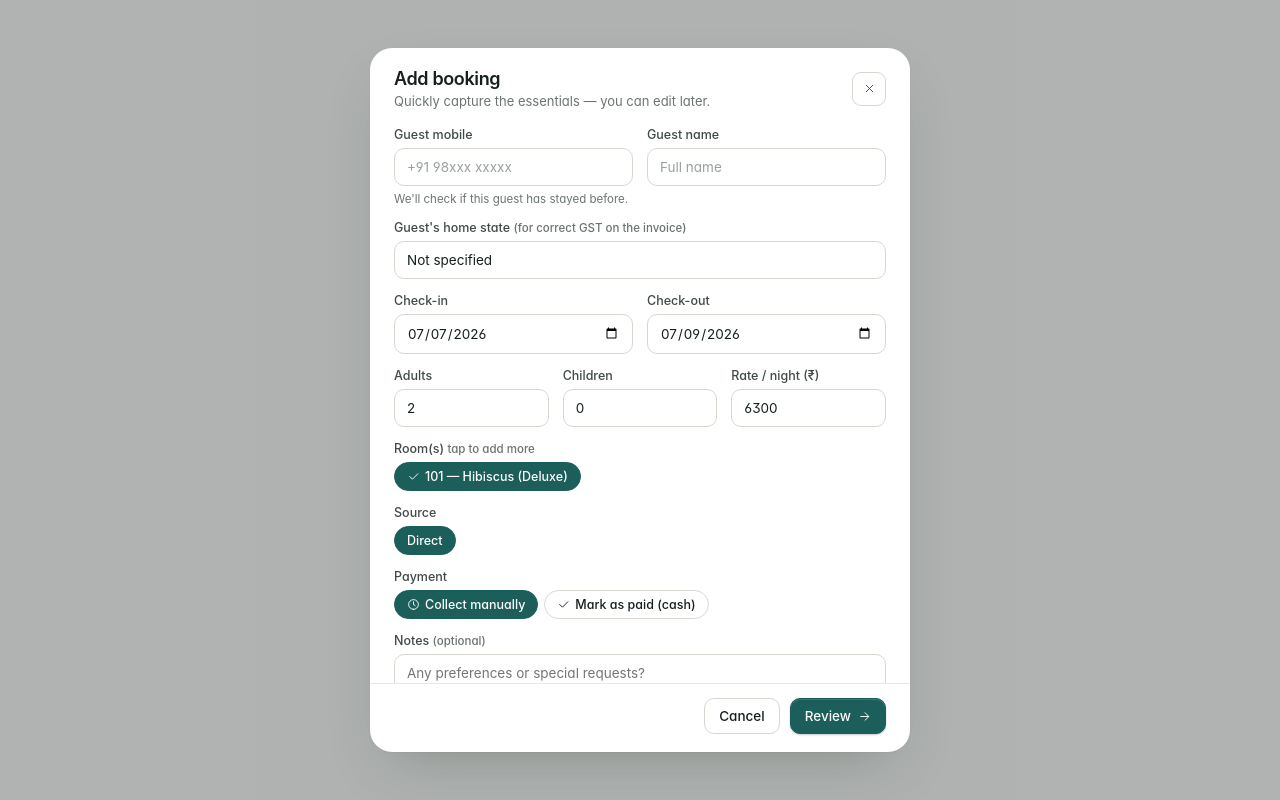
Scenario: QuickAdd extra interactions › shows singular night and a children count in the summary
Type "2026-07-01" into the date field below "Check-in" at (514, 334), box x1=394 y1=314 x2=633 y2=354
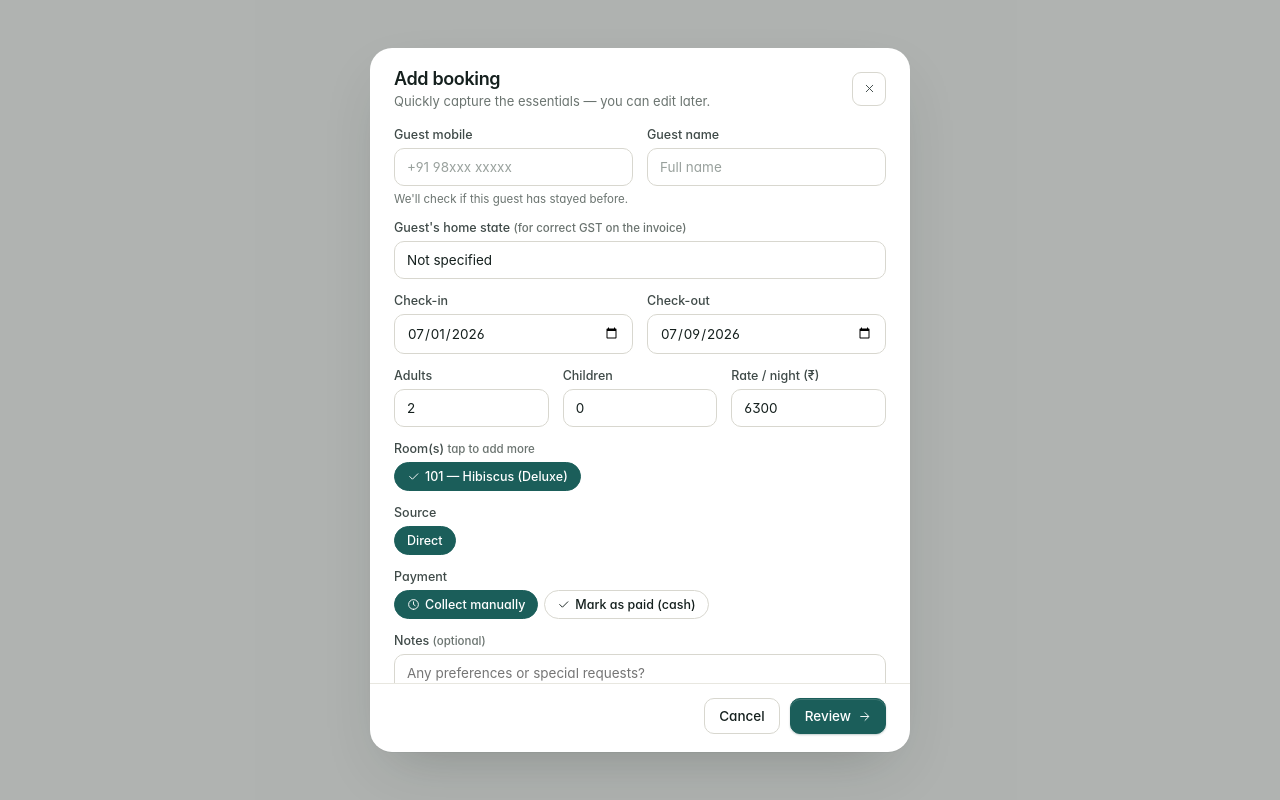
Type "2026-07-02" into the date field below "Check-out" at (766, 334), box x1=647 y1=314 x2=886 y2=354
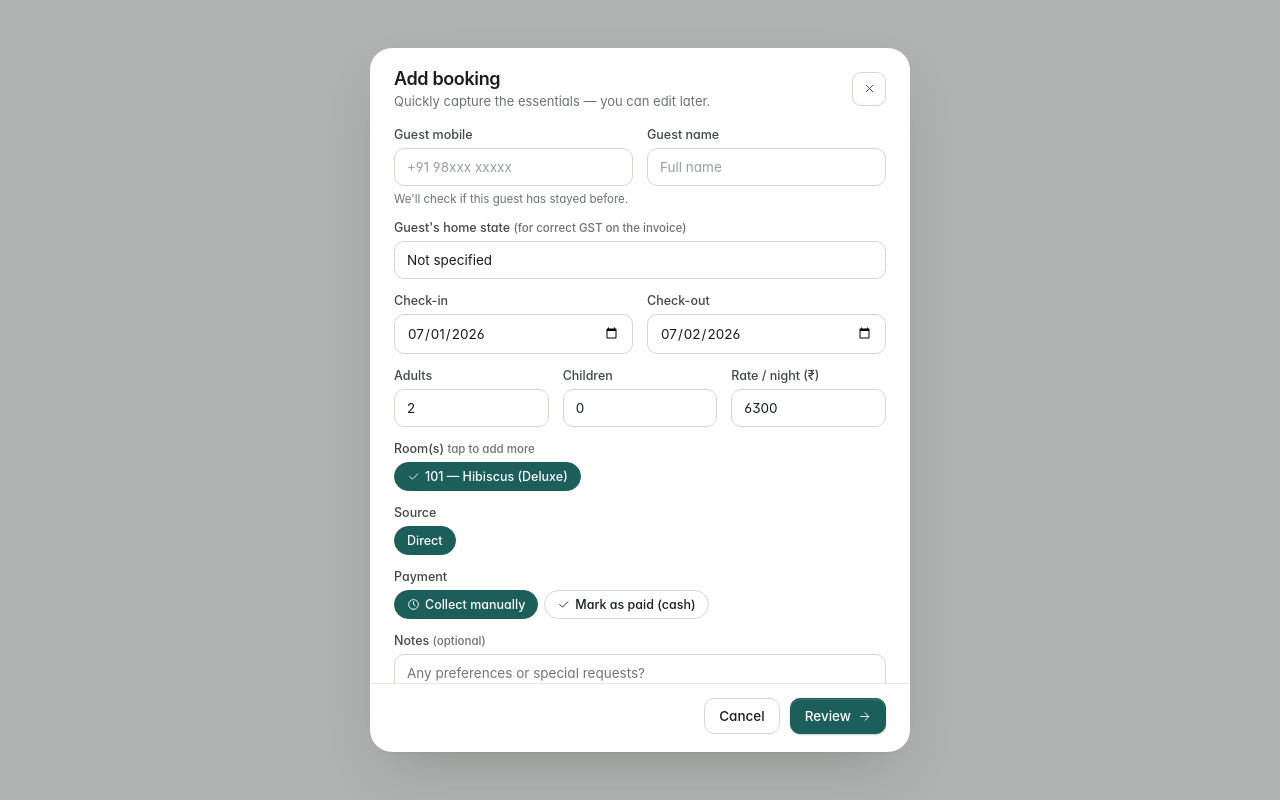
Replace the text in the number field below "Children" with "1" at (640, 408), box x1=563 y1=389 x2=717 y2=427
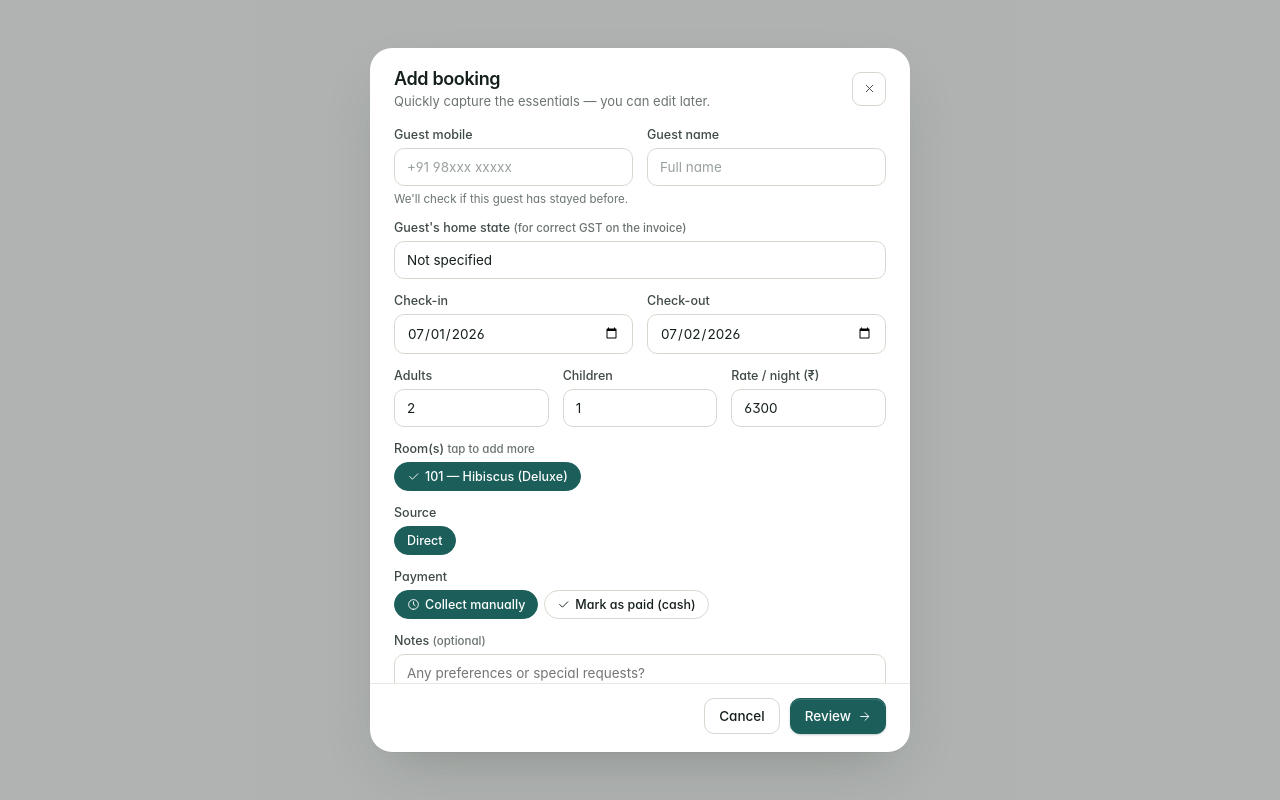
Type "+919812300000" into the field with placeholder "+91 98xxx xxxxx" at (514, 167), box x1=394 y1=148 x2=633 y2=186
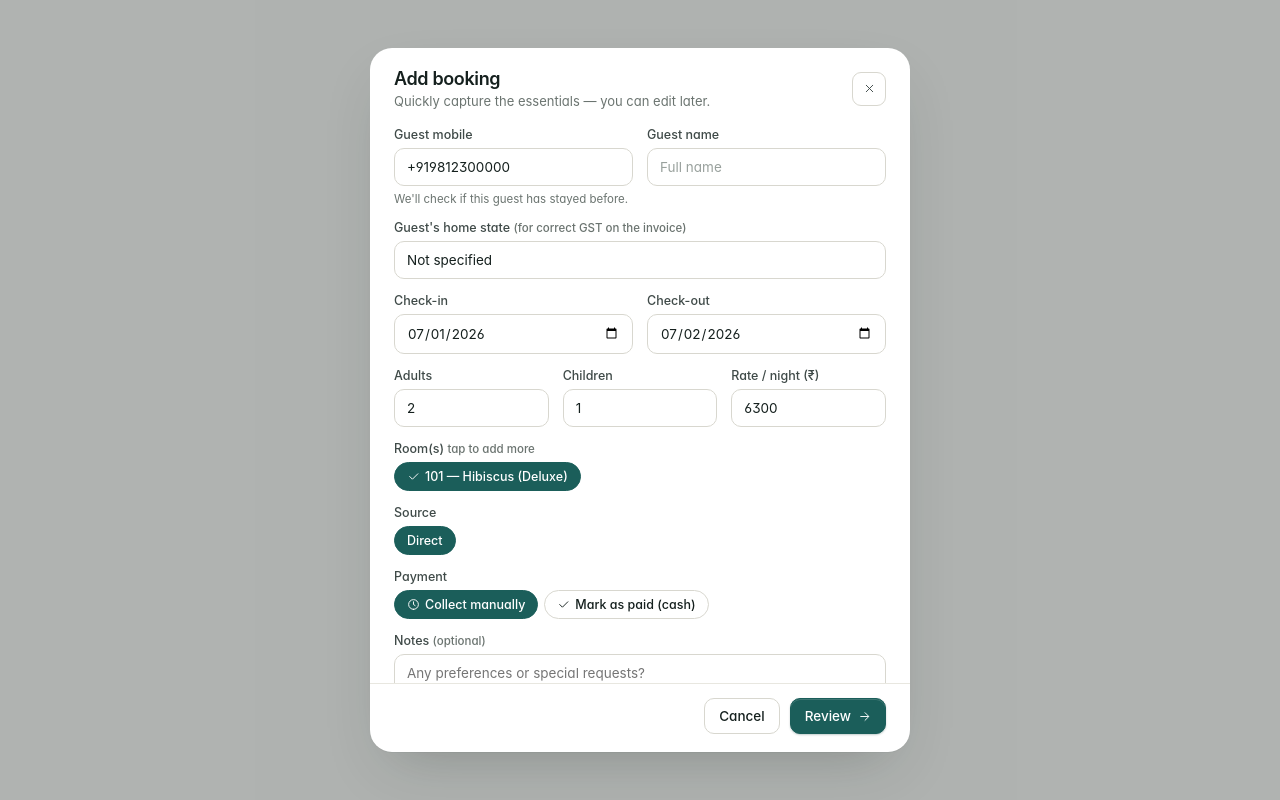
Type "Sameer" into the field with placeholder "Full name" at (766, 167), box x1=647 y1=148 x2=886 y2=186
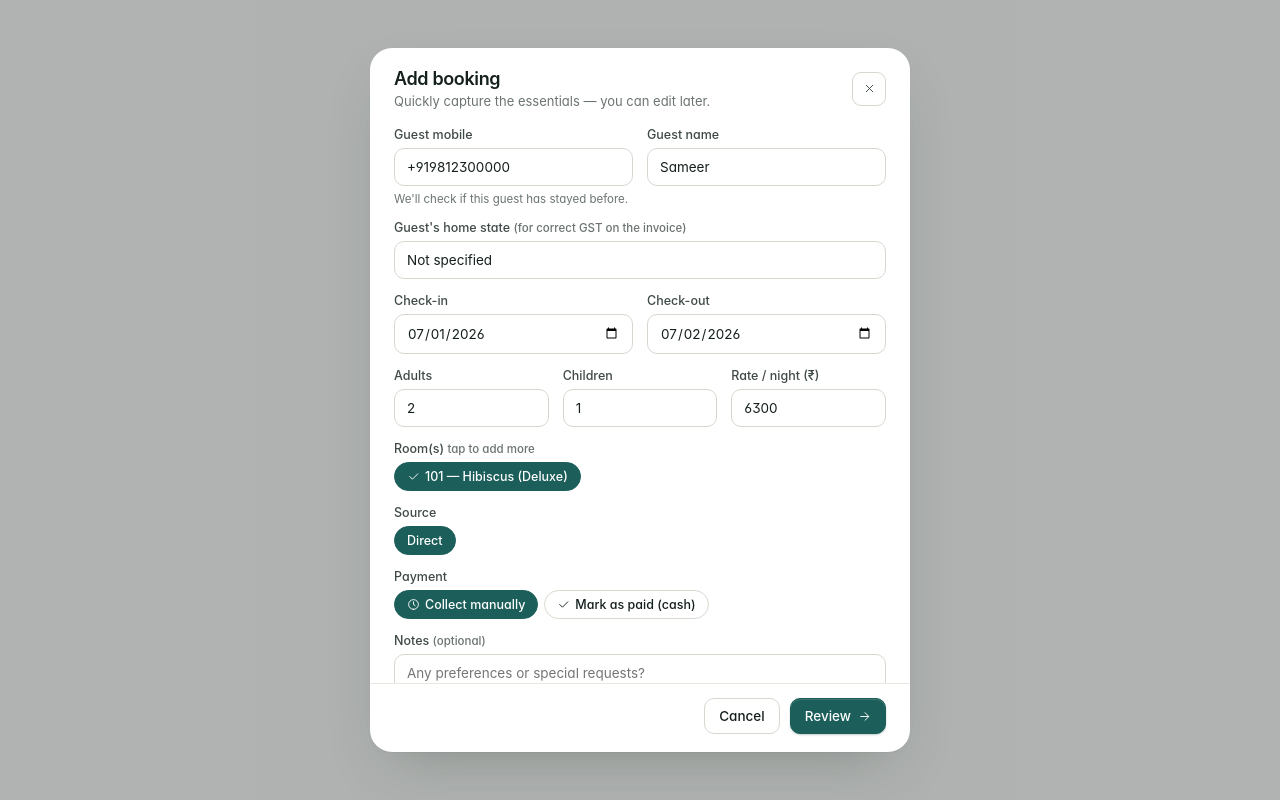
Click the button "Review" at (838, 716), box x1=790 y1=698 x2=886 y2=734
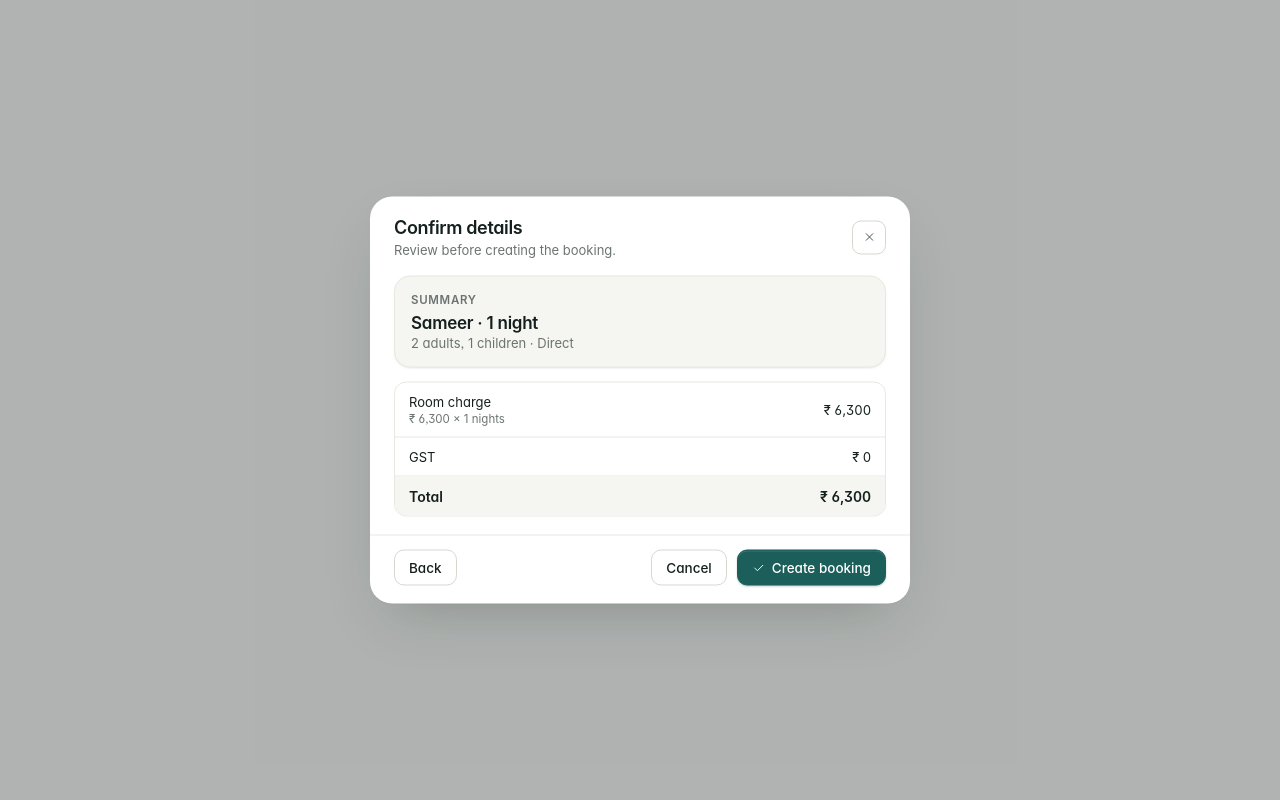
Expected: the text "1 night" is shown, x1=411 y1=312 x2=538 y2=332
Expected: the text "1 children" is shown, x1=460 y1=334 x2=526 y2=350
